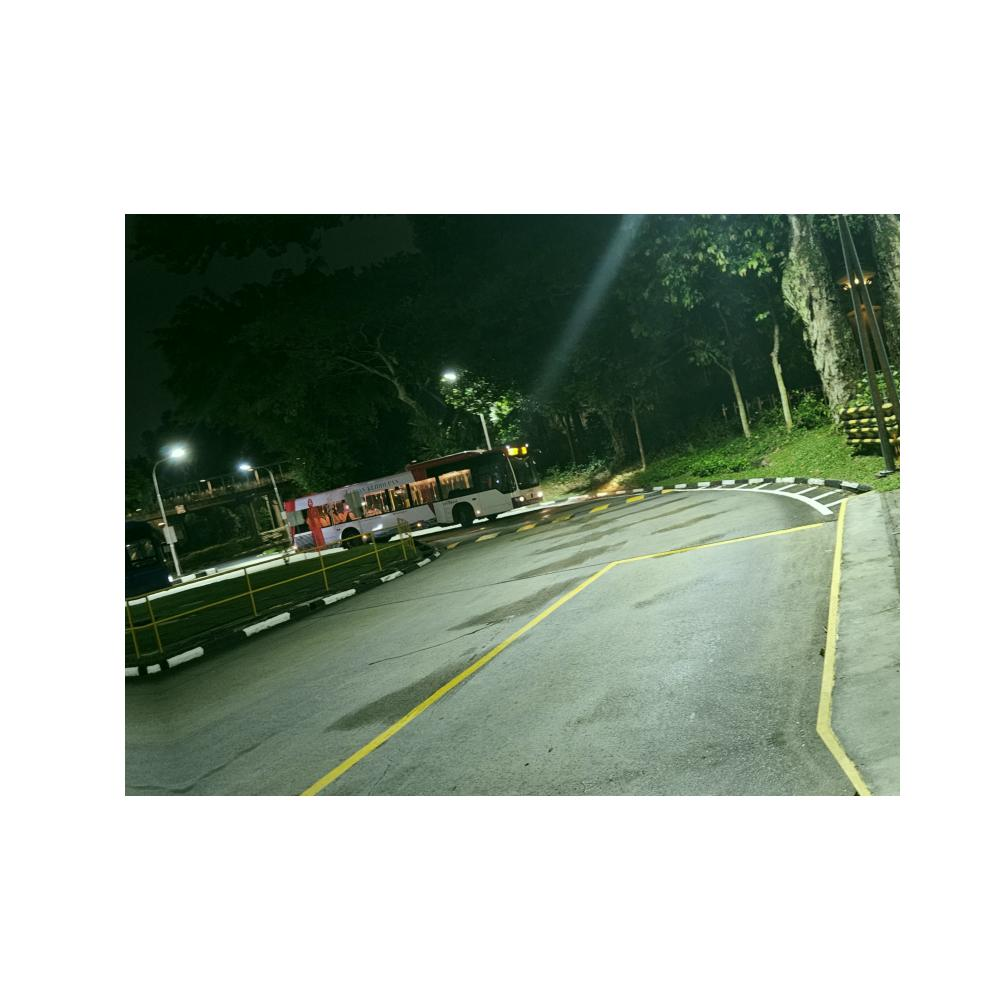bus: (280, 443, 545, 551)
